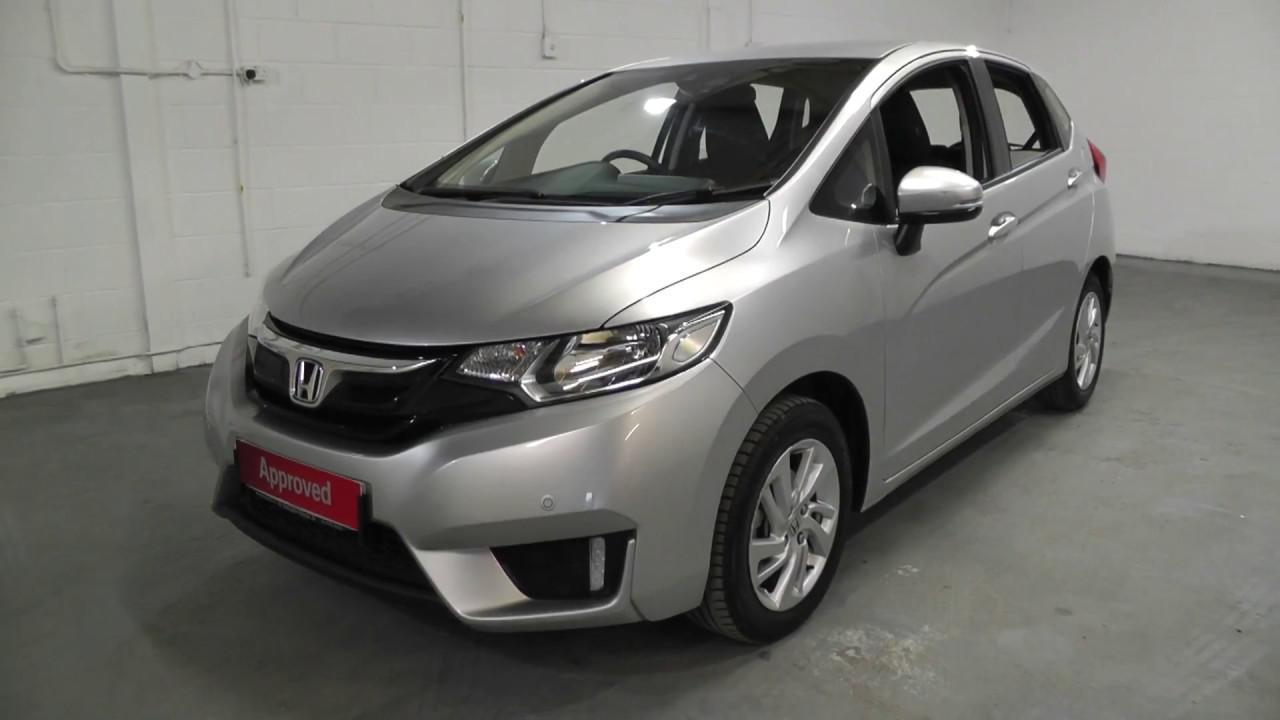Hatchback: (196, 39, 1123, 652)
